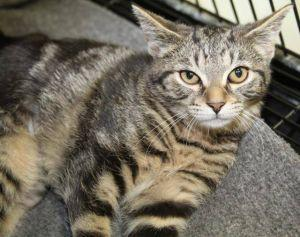bengal: (125, 1, 300, 135)
